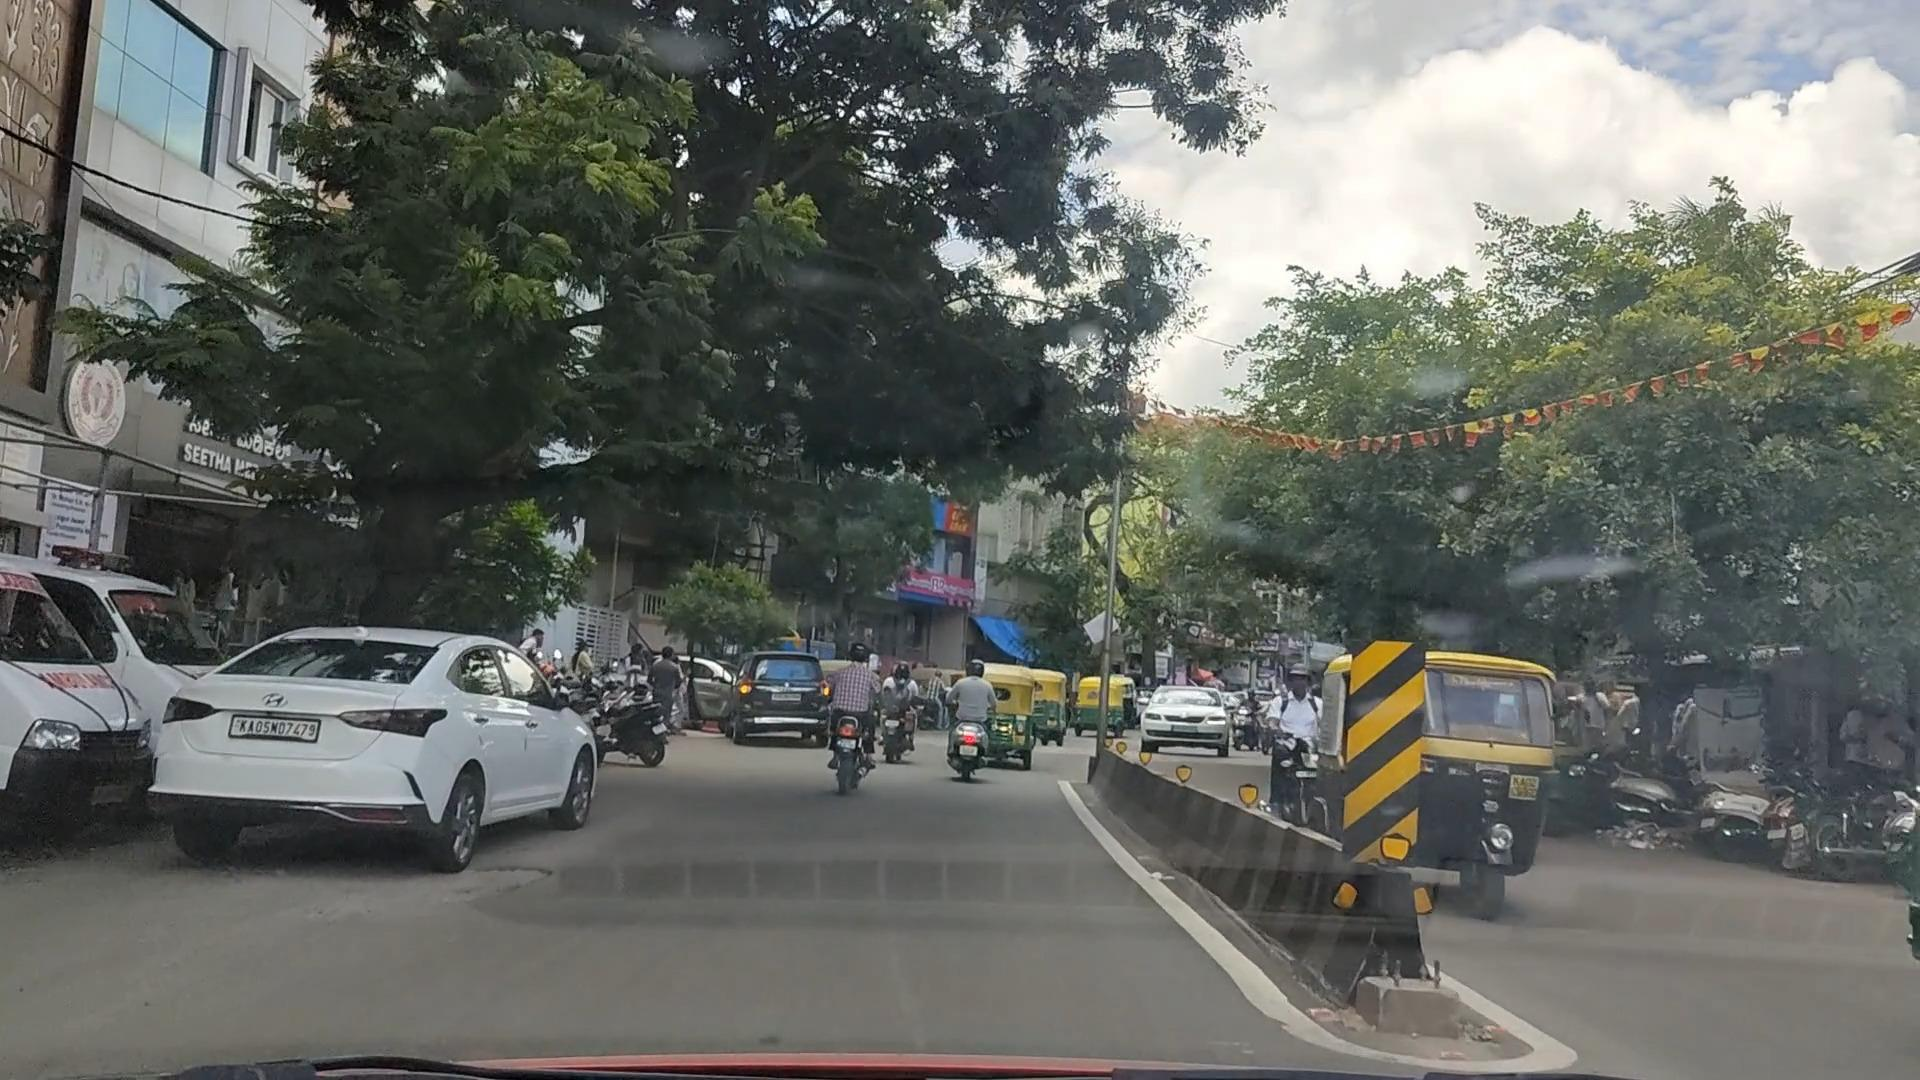LMV: (153, 618, 601, 894), (825, 650, 881, 804), (956, 678, 1011, 777)
